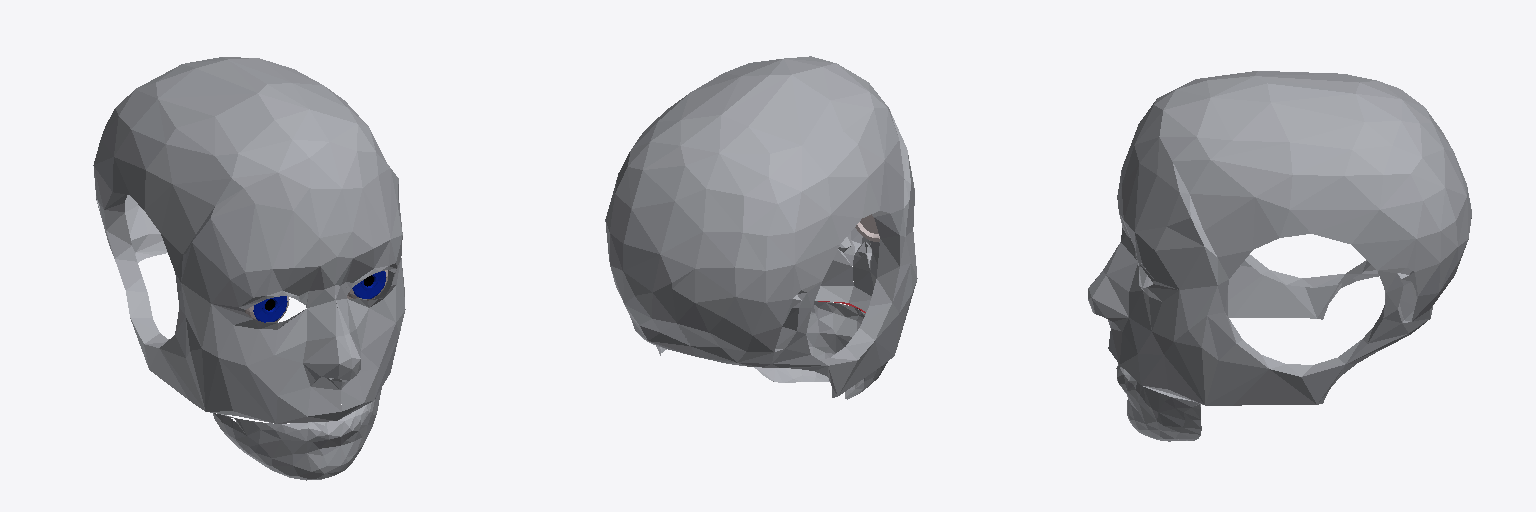
The model's file is InMoovHead.obj.
3 renders of one model, left to right at view 1: azimuth 30°, elevation 25°; view 2: azimuth 150°, elevation 25°; view 3: azimuth 270°, elevation 25°, orthographic.
Visible parts, largest first — view 1: Skull_Right_Fullrobotarm1.463, Jaw_Mech.003_Fullrobotarm1.026, Eye_mech.005_Fullrobotarm1.008, Eye_mech.009_Fullrobotarm1.011; view 2: Skull_Right_Fullrobotarm1.463, Jaw_Mech.003_Fullrobotarm1.026; view 3: Skull_Right_Fullrobotarm1.463, Jaw_Mech.003_Fullrobotarm1.026.
Boxes of the visible parts, box(x1,y1,x2,y2) form: Skull_Right_Fullrobotarm1.463: box(93, 57, 405, 423); Jaw_Mech.003_Fullrobotarm1.026: box(213, 388, 381, 480); Eye_mech.005_Fullrobotarm1.008: box(245, 296, 289, 322); Eye_mech.009_Fullrobotarm1.011: box(347, 270, 387, 300); Skull_Right_Fullrobotarm1.463: box(605, 56, 917, 397); Jaw_Mech.003_Fullrobotarm1.026: box(754, 301, 887, 399); Skull_Right_Fullrobotarm1.463: box(1088, 71, 1471, 405); Jaw_Mech.003_Fullrobotarm1.026: box(1116, 363, 1201, 441).
Size of the model in its own units: 0.5469 by 0.818 by 0.8142.